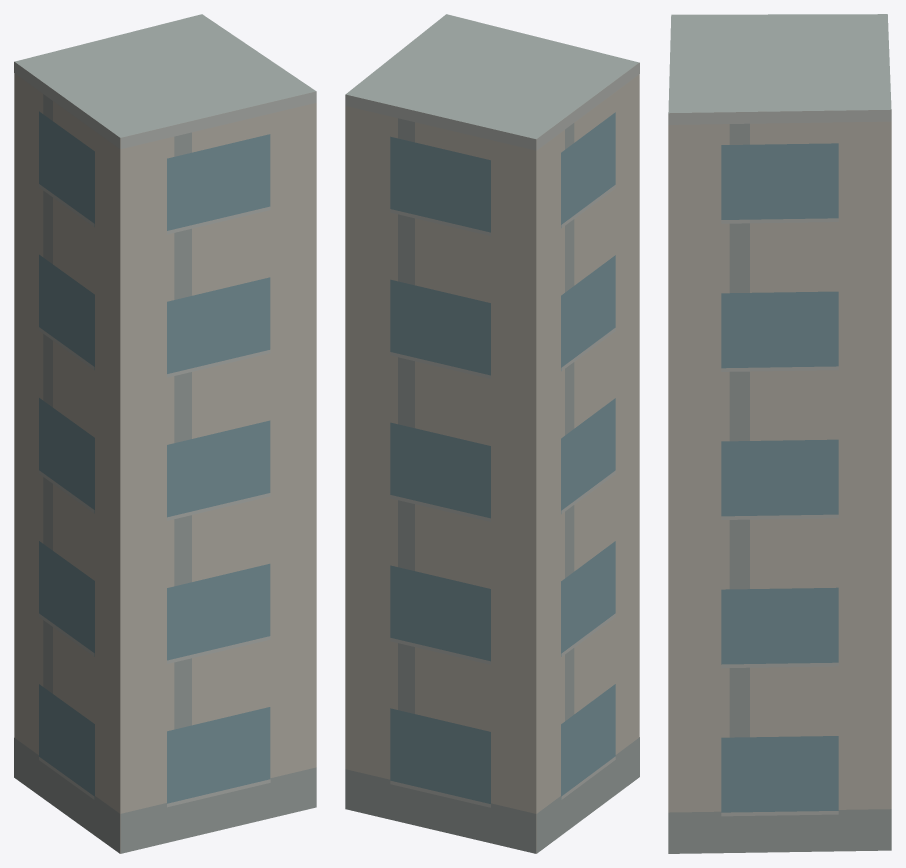
Rendered from survey-upis-32634525.glb.
3 renders of one model, left to right at view 1: azimuth 30°, elevation 25°; view 2: azimuth 150°, elevation 25°; view 3: azimuth 270°, elevation 25°, orthographic. The views are drawn at different scales.
Parts seen in each view (by area): view 1: survey-upis-32634525.tmp; view 2: survey-upis-32634525.tmp; view 3: survey-upis-32634525.tmp.
Part boxes in pixels (<box>): survey-upis-32634525.tmp: <box>14,14,316,853</box>; survey-upis-32634525.tmp: <box>345,14,639,853</box>; survey-upis-32634525.tmp: <box>668,14,891,853</box>.
Size of the model in its own units: 4.39 by 15.25 by 4.17.
